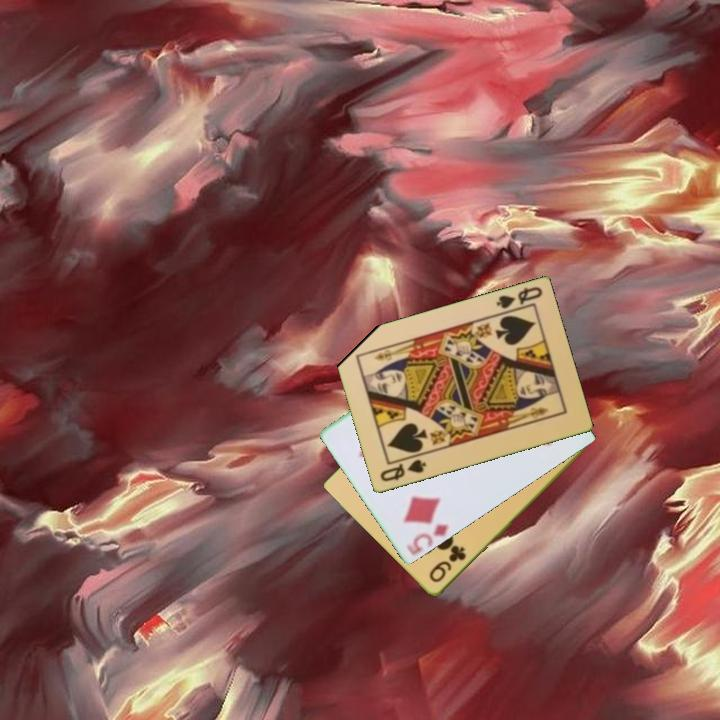5d: (406, 520, 451, 559)
9c: (426, 543, 469, 586)
Qs: (493, 283, 545, 317), (376, 456, 429, 485)
